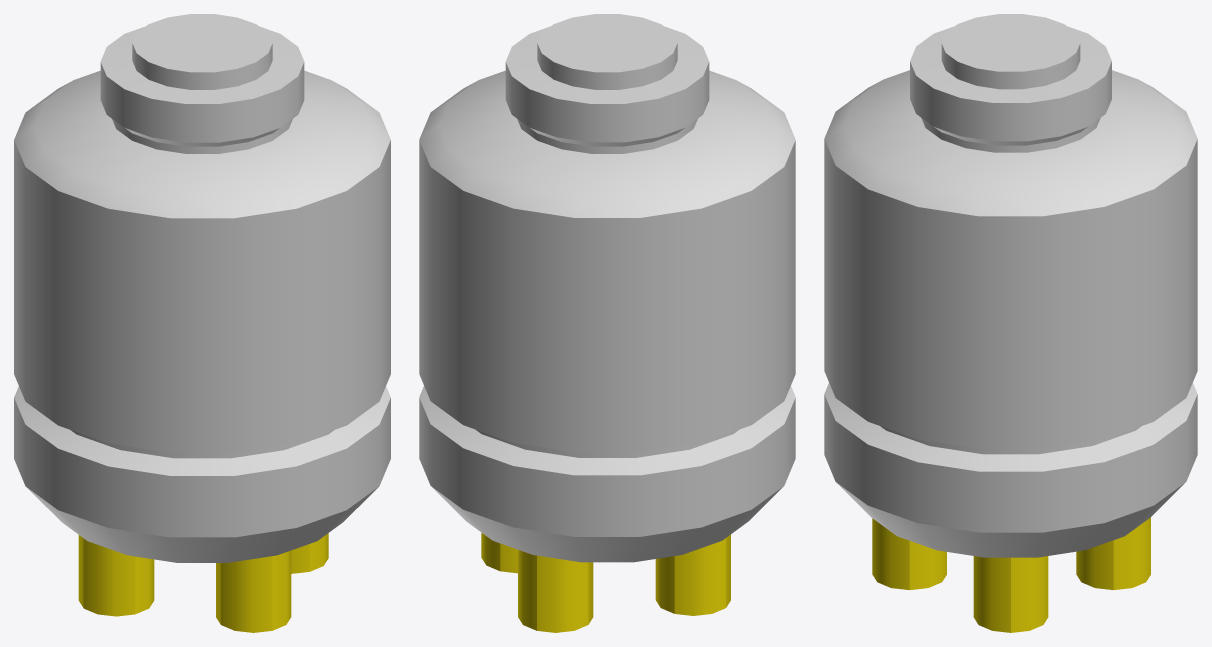
Rendered from Capacitor_3_MotorrunSilver.fbx.
The picture shows the model from 3 angles, left to right: view 1: azimuth 30°, elevation 25°; view 2: azimuth 150°, elevation 25°; view 3: azimuth 270°, elevation 25°; orthographic projection.
Parts seen in each view (by area): view 1: Capacitor_3_MotorrunSilver; view 2: Capacitor_3_MotorrunSilver; view 3: Capacitor_3_MotorrunSilver.
Boxes of the visible parts, box(x1,y1,x2,y2) form: Capacitor_3_MotorrunSilver: box(14, 14, 390, 632); Capacitor_3_MotorrunSilver: box(419, 14, 795, 632); Capacitor_3_MotorrunSilver: box(824, 14, 1197, 632).
Bounding box in the file's own units: 30.58 × 48.77 × 31.05.
